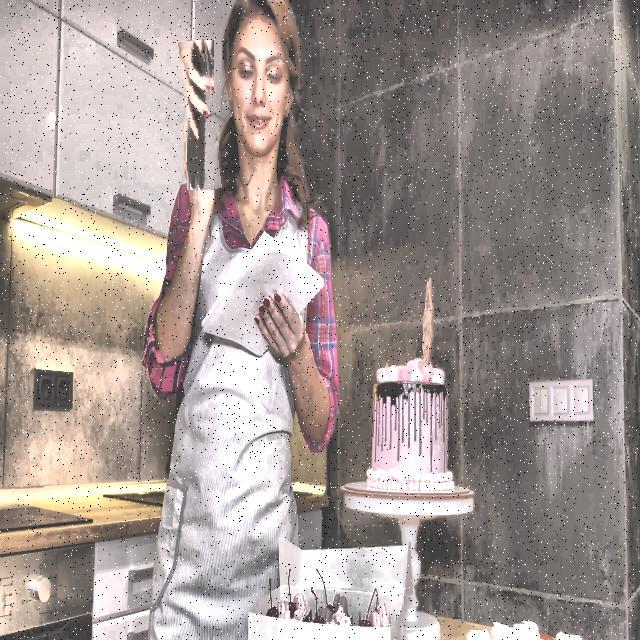Phone: (183, 40, 220, 190)
